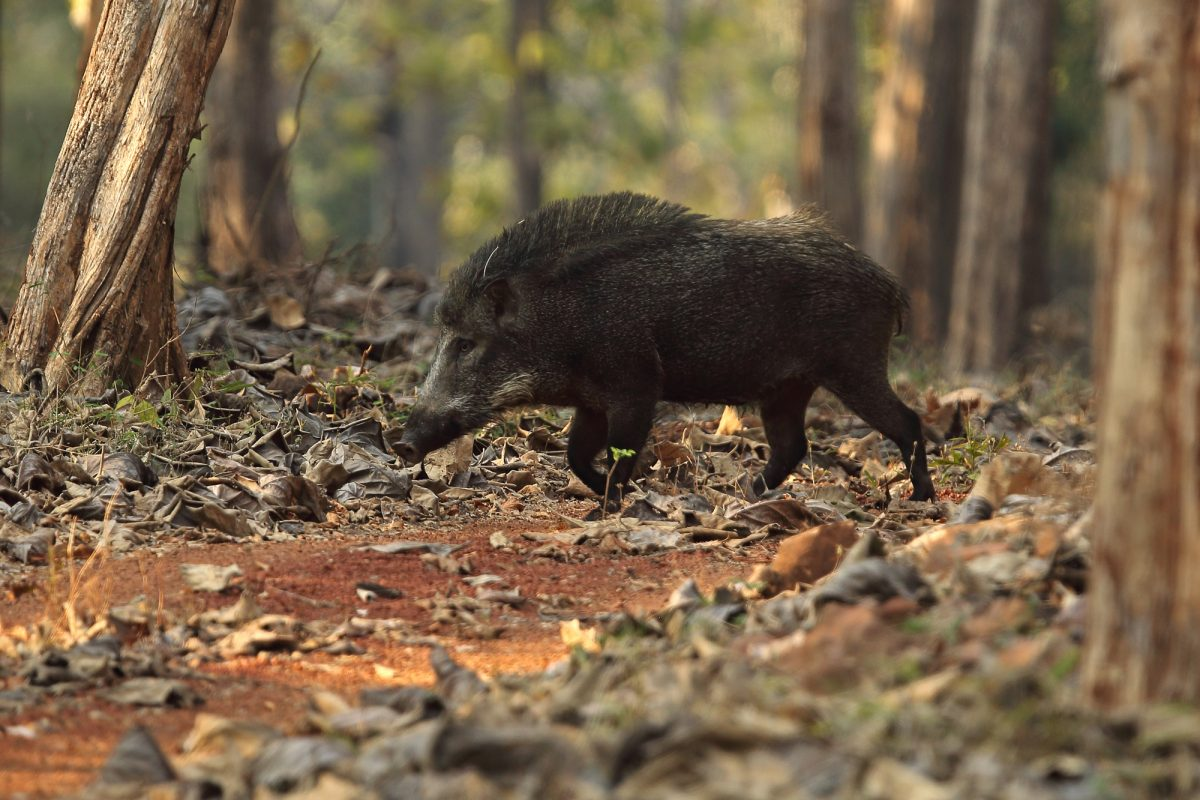wild boar: (383, 188, 948, 527)
